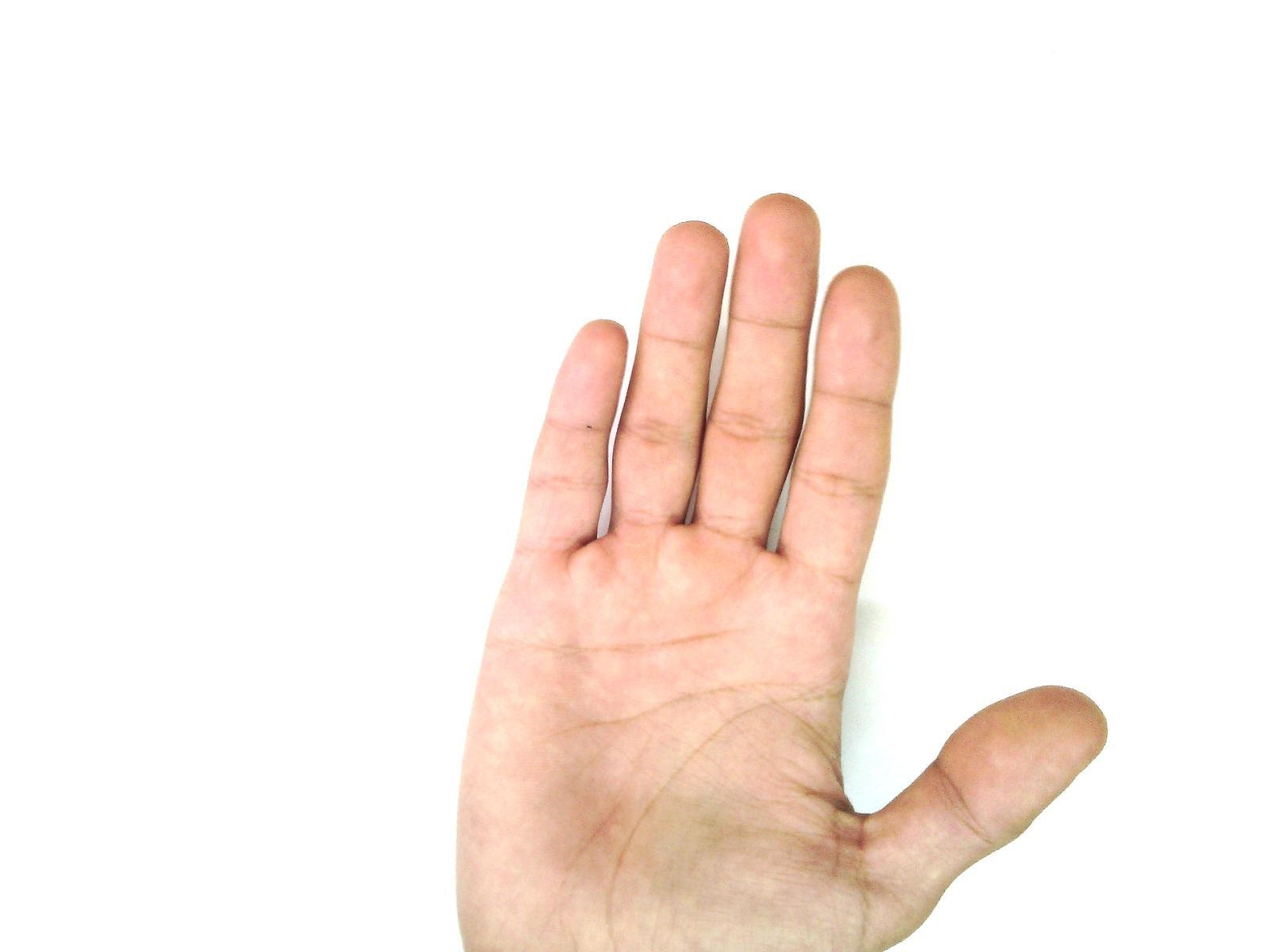open_palm: (450, 192, 1110, 952)
